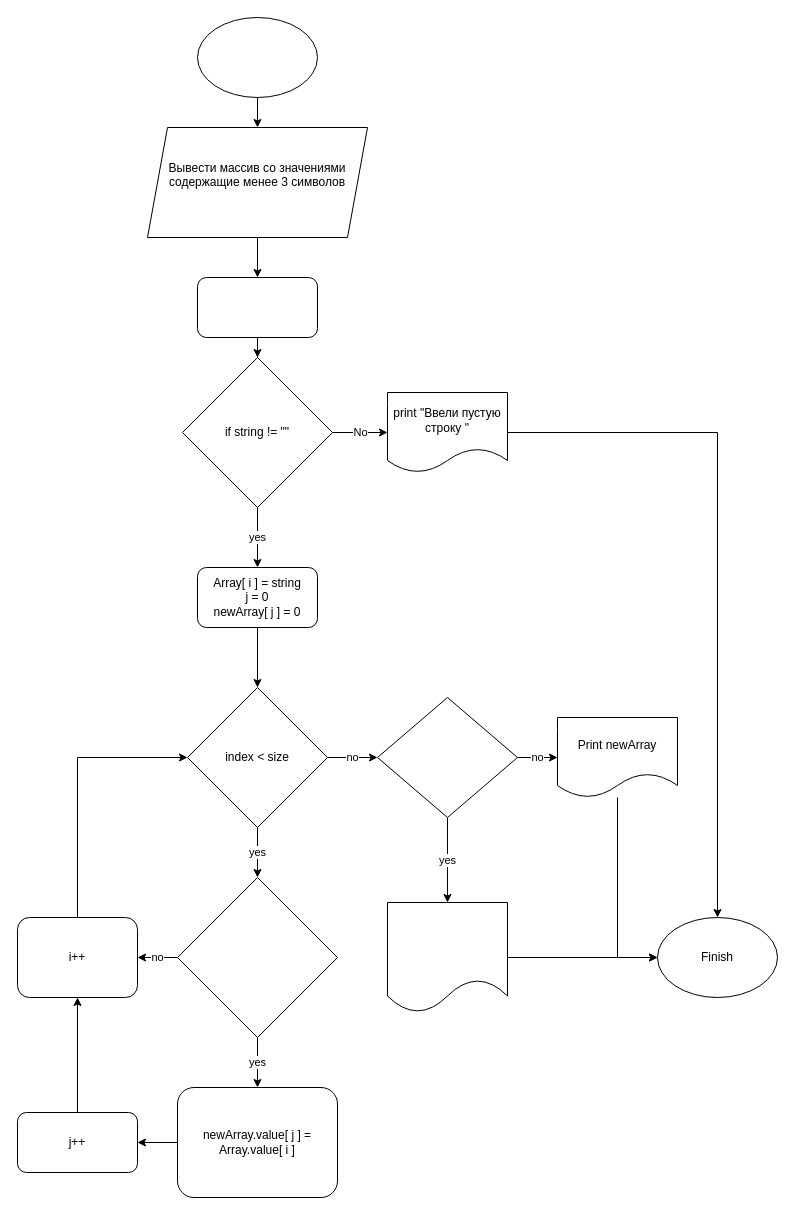
The diagram is 795 pixels wide and 1215 high, and some of its shapes have lost their labels. The shapes that lost their labels are listed below. From the top down, each one's centre as x and y in pixels, then its label:
the point at 257,57: Start
the point at 257,307: input string
the point at 447,757: if j == 0
the point at 257,957: if value.length < 4
the point at 447,957: print "В данном массиве отсутствуют элементы с тремя и менее символами"
